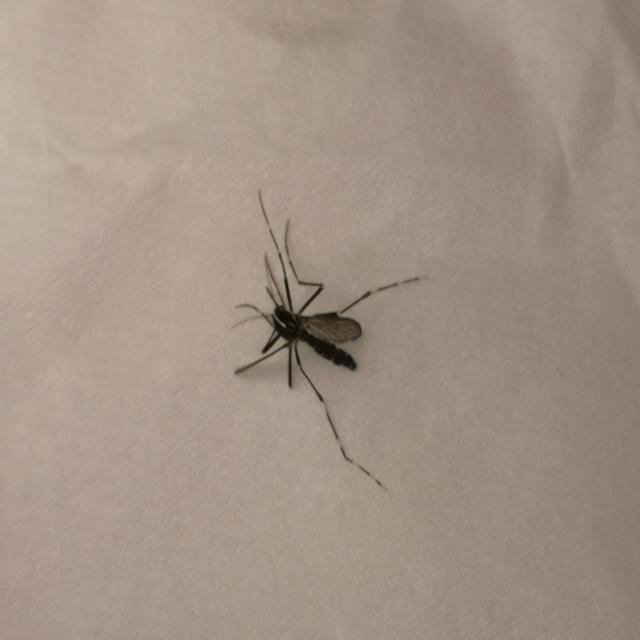albopictus: (222, 173, 423, 507)
